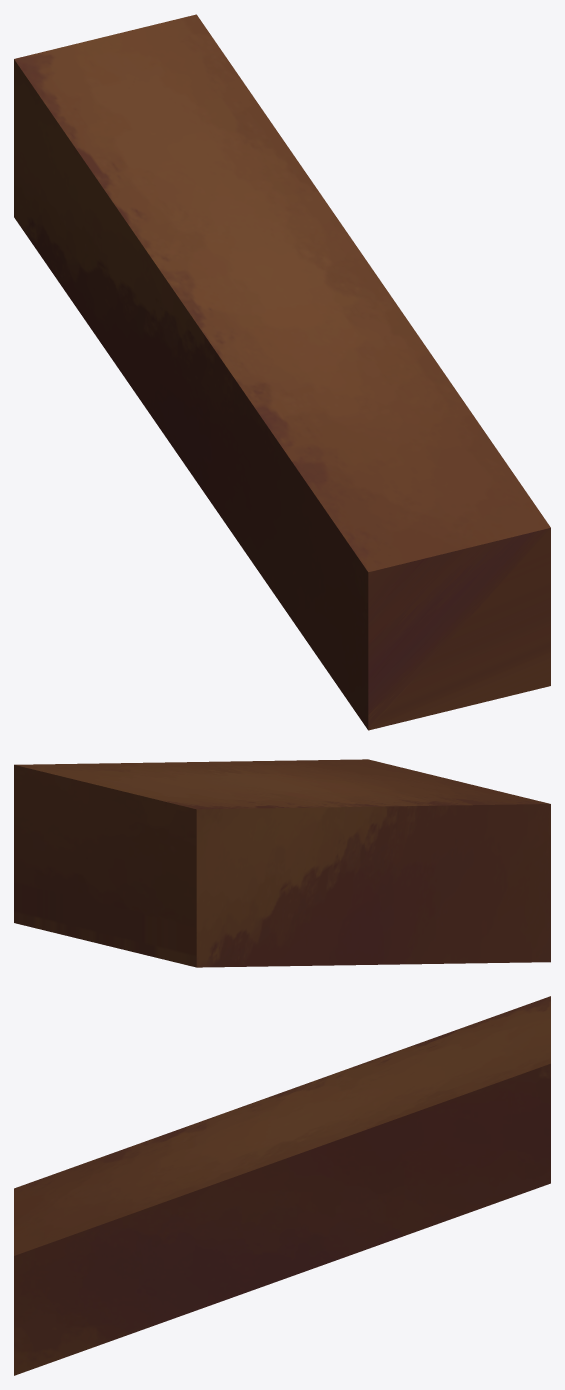
The model's file is railing-3.fbx.
3 renders of one model, top to bottom at view 1: azimuth 30°, elevation 25°; view 2: azimuth 150°, elevation 25°; view 3: azimuth 270°, elevation 25°, orthographic. The views are drawn at different scales.
Parts seen in each view (by area): view 1: Pagar.002; view 2: Pagar.002; view 3: Pagar.002.
Part boxes in pixels (x1,y1,x2,y2): Pagar.002: [14, 14, 550, 730]; Pagar.002: [14, 759, 550, 967]; Pagar.002: [14, 996, 550, 1375].
Size of the model in its own units: 21.94 by 47.3 by 73.7.
Materials: 1 (1 with a texture image).
